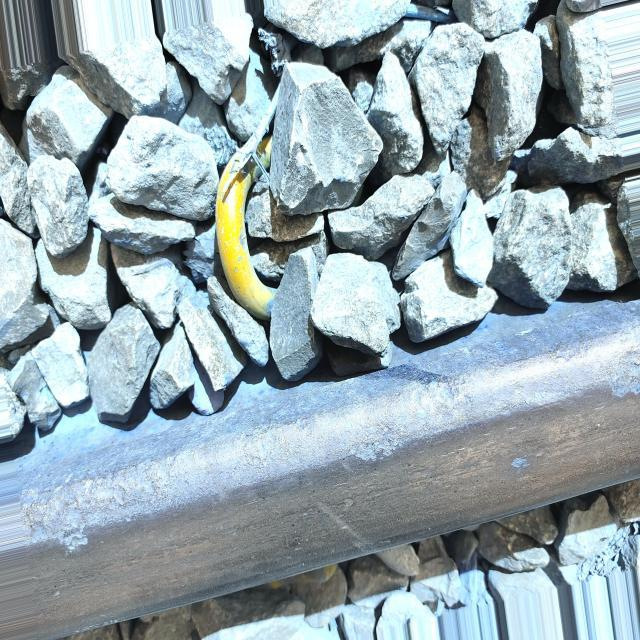Good Fasteners: (216, 153, 274, 319)
